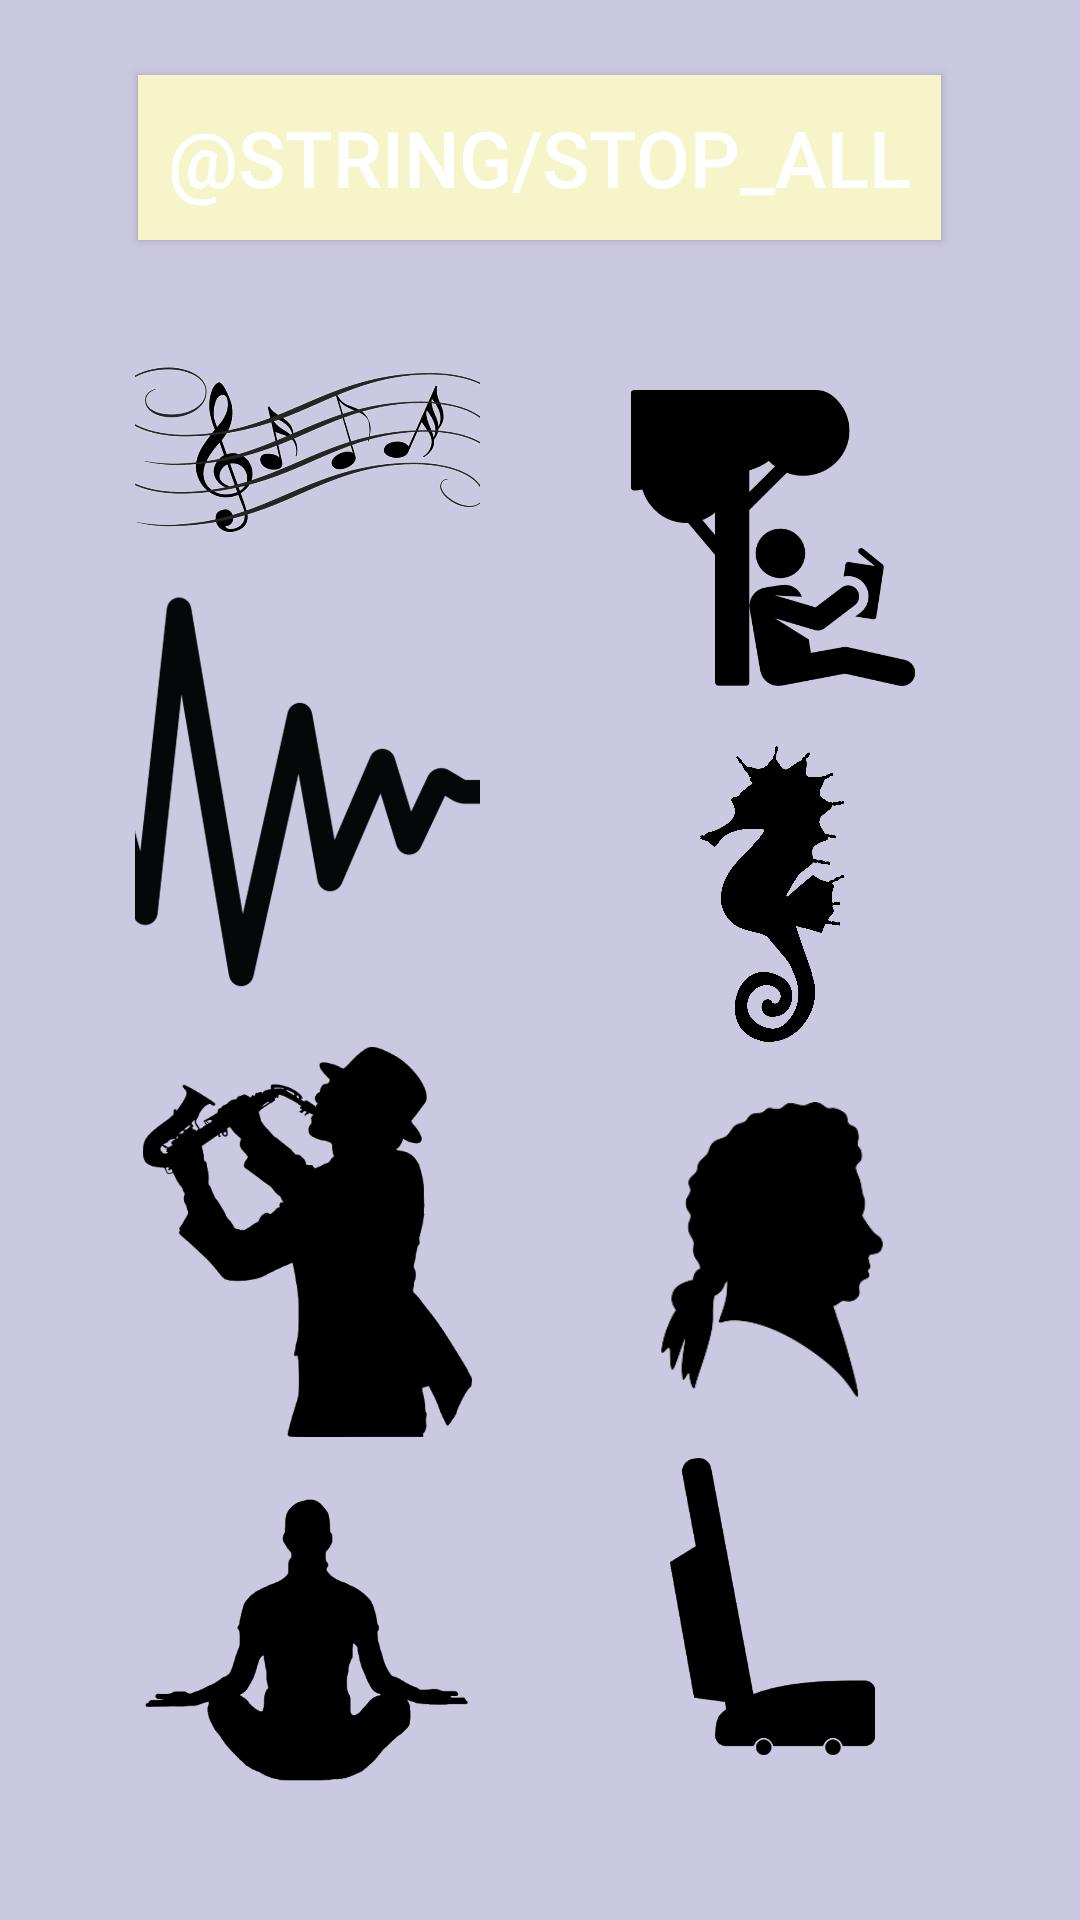

Named icons in this screenshot (1080 x 1920) and their centers, point (x, y):
meditation: point (306, 1640)
nature: point (773, 538)
ocean: point (772, 894)
upbeat: point (307, 449)
vacuum: point (772, 1606)
